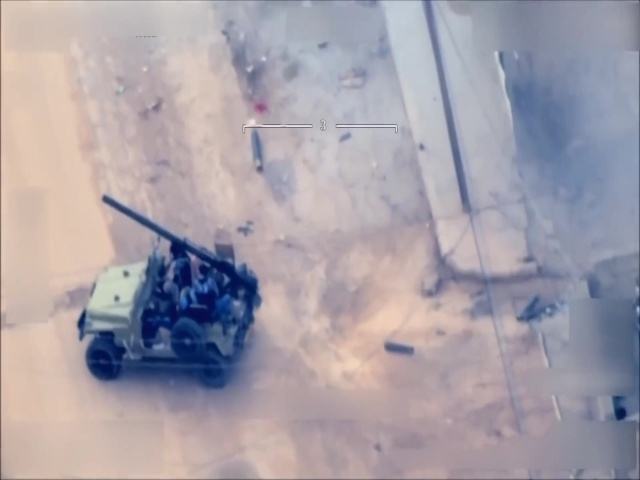vehicle: (79, 244, 260, 392)
